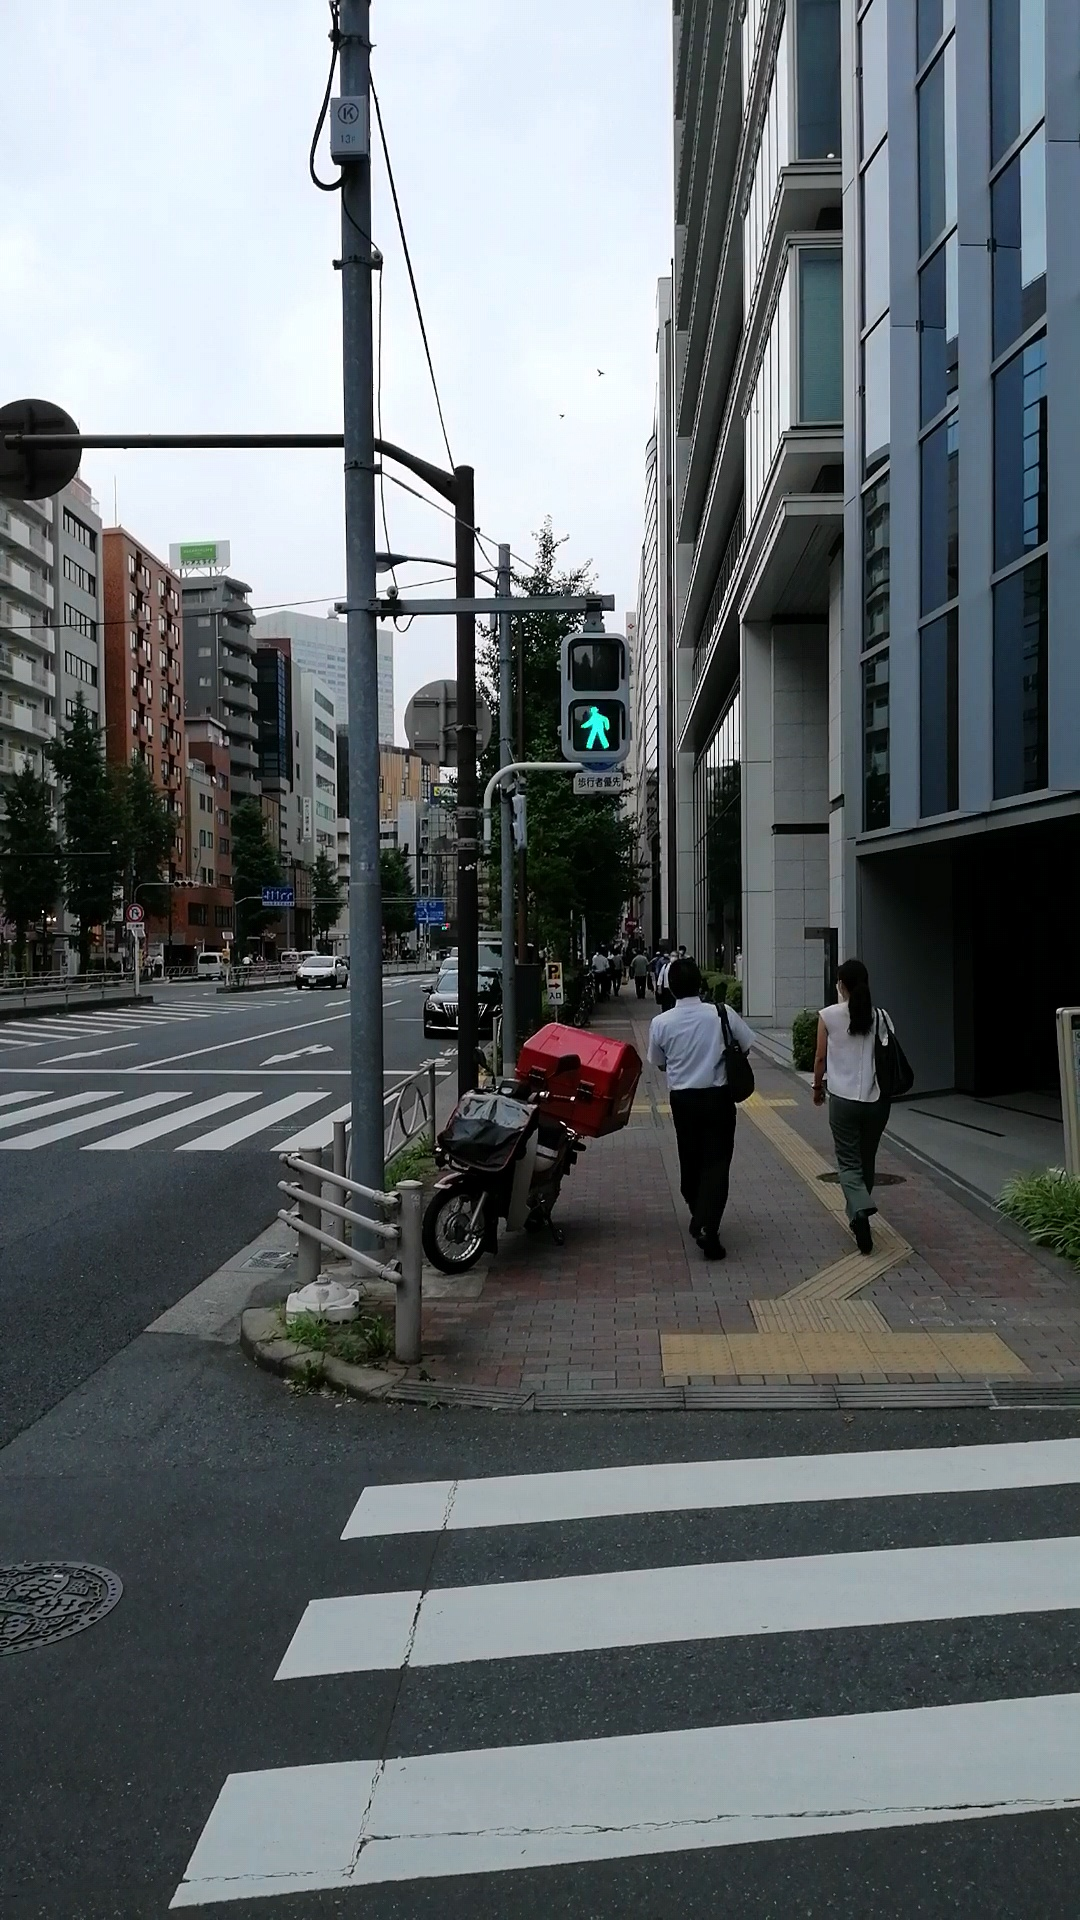green: (558, 633, 632, 767)
